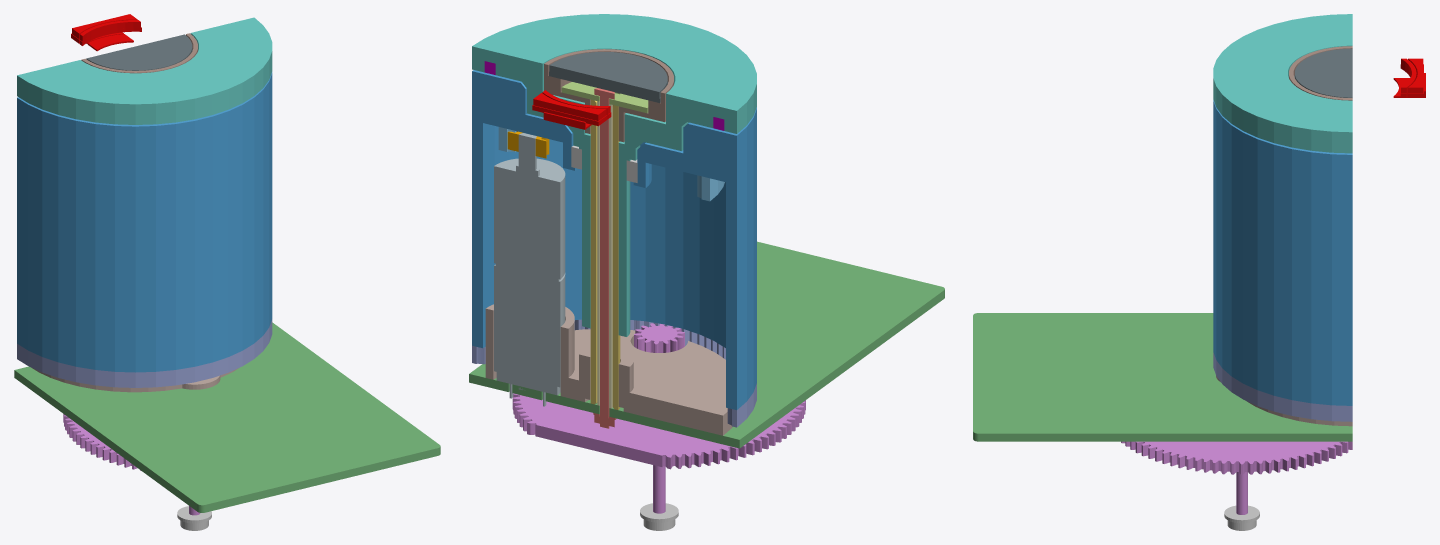
Rendered from knob-stack-v0.10-half-section.glb.
The picture shows the model from 3 angles, left to right: view 1: azimuth 30°, elevation 25°; view 2: azimuth 150°, elevation 25°; view 3: azimuth 270°, elevation 25°; orthographic projection. The views are drawn at different scales.
Parts seen in each view (by area): view 1: knob_body__cap_skirt_hub, PCB, control_dial, bottom_internal_ring, TFT_glass, encoder_big_gear, base_cradle, encoder_bearing_2__back_panel, screen_holder, CLASH_screen_holder___TFT_glass; view 2: knob_body__cap_skirt_hub, control_dial, PCB, motor, base_cradle, encoder_big_gear, brass_tube, TFT_glass, rod_M1_6__VBUS_DATA, rod_sleeve, screen_holder, bottom_internal_ring (+7 smaller); view 3: knob_body__cap_skirt_hub, PCB, control_dial, encoder_big_gear, TFT_glass, bottom_internal_ring, encoder_bearing_2__back_panel, screen_holder.
Part boxes in pixels (<box>): knob_body__cap_skirt_hub: <box>17,72,272,372</box>; PCB: <box>14,322,440,512</box>; control_dial: <box>17,17,272,124</box>; bottom_internal_ring: <box>17,319,272,387</box>; TFT_glass: <box>86,34,192,70</box>; encoder_big_gear: <box>63,414,140,470</box>; base_cradle: <box>31,367,238,392</box>; encoder_bearing_2__back_panel: <box>177,506,211,530</box>; screen_holder: <box>81,33,197,73</box>; CLASH_screen_holder___TFT_glass: <box>80,20,140,41</box>; knob_body__cap_skirt_hub: <box>472,70,756,410</box>; control_dial: <box>472,14,756,336</box>; PCB: <box>469,241,944,448</box>; motor: <box>494,133,565,406</box>; base_cradle: <box>485,304,732,435</box>; encoder_big_gear: <box>512,393,805,469</box>; brass_tube: <box>590,99,620,409</box>; TFT_glass: <box>549,52,667,98</box>; rod_M1_6__VBUS_DATA: <box>600,89,609,428</box>; rod_sleeve: <box>597,101,612,408</box>; screen_holder: <box>544,49,673,142</box>; bottom_internal_ring: <box>472,319,756,427</box>; knob_body__cap_skirt_hub: <box>1213,100,1352,405</box>; PCB: <box>973,313,1352,441</box>; control_dial: <box>1213,14,1352,153</box>; encoder_big_gear: <box>1121,441,1352,474</box>; TFT_glass: <box>1295,48,1352,97</box>; bottom_internal_ring: <box>1213,352,1352,421</box>; encoder_bearing_2__back_panel: <box>1224,505,1259,530</box>; screen_holder: <box>1289,46,1352,100</box>.
Size of the model in its own units: 0.049 by 0.085 by 0.0776.
